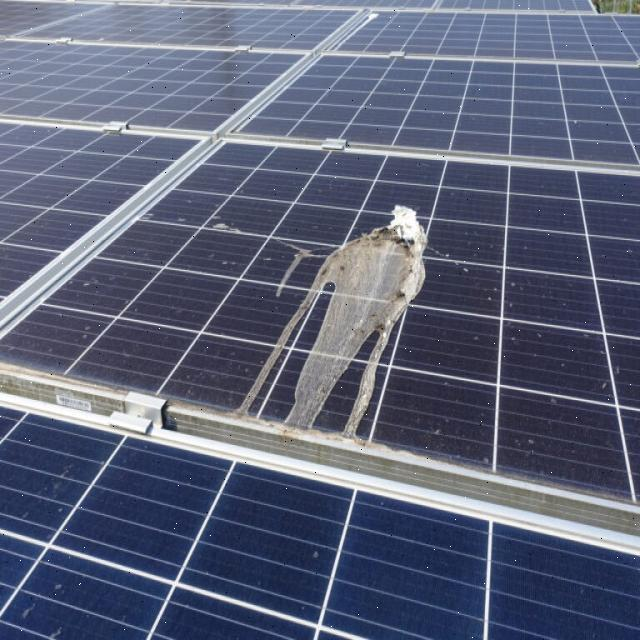Anomaly Solar Panel: (0, 0, 639, 508)
Normal Solar Panel: (0, 401, 640, 640)
Surface Contaminant: (229, 165, 445, 448)
